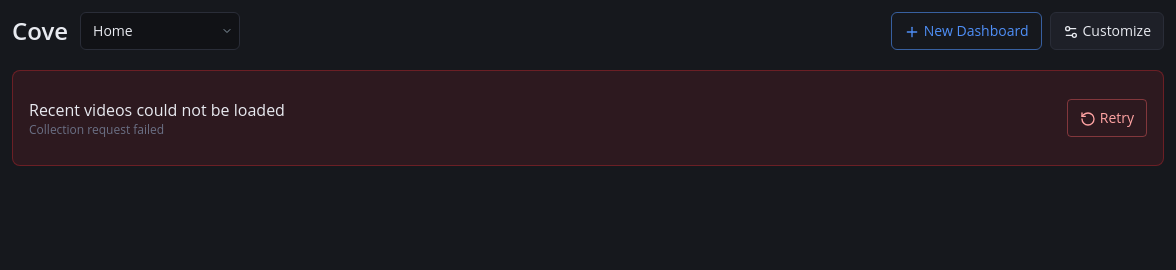
Test: HomePage dashboards › shows and retries a failed built-in collection widget
This screenshot has width=1176, height=270.
expect the message shows "Recent videos could not be loaded": met, box [12, 70, 1164, 166]
Click the button with aria-label "Retry Recent videos" at (1107, 118), box [1067, 99, 1147, 137]
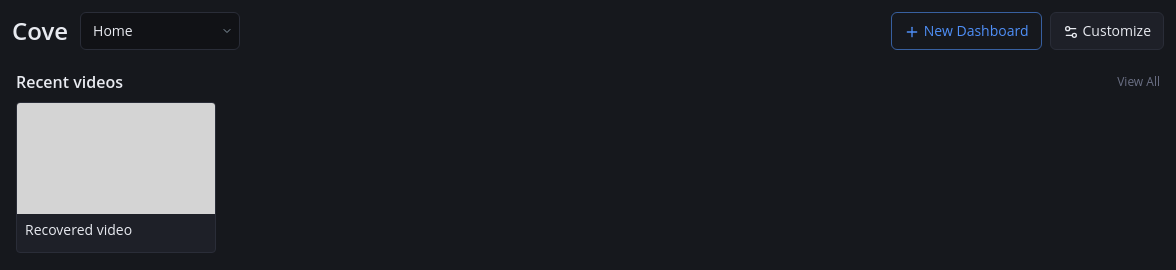
expect the text "Recovered video" is shown: met, box [25, 220, 132, 239]
expect the message "Recent videos could not be loaded Collection request failed Retry" is gone: met
